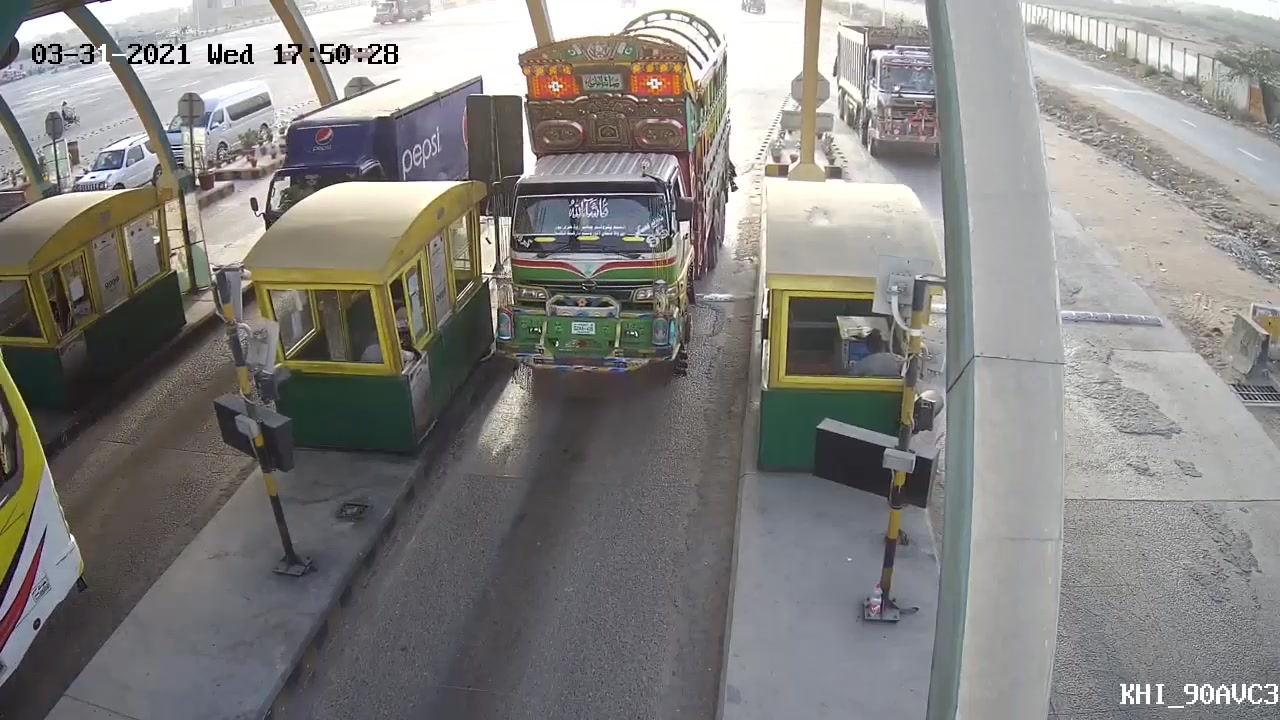F5: (487, 16, 730, 404)
